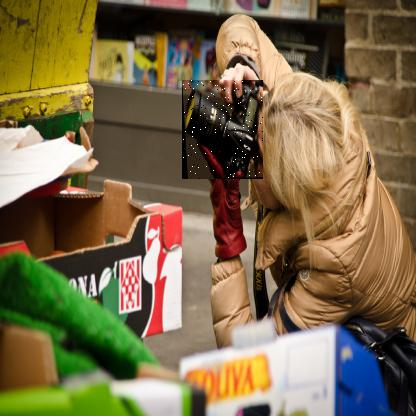Camera: (183, 82, 265, 182)
